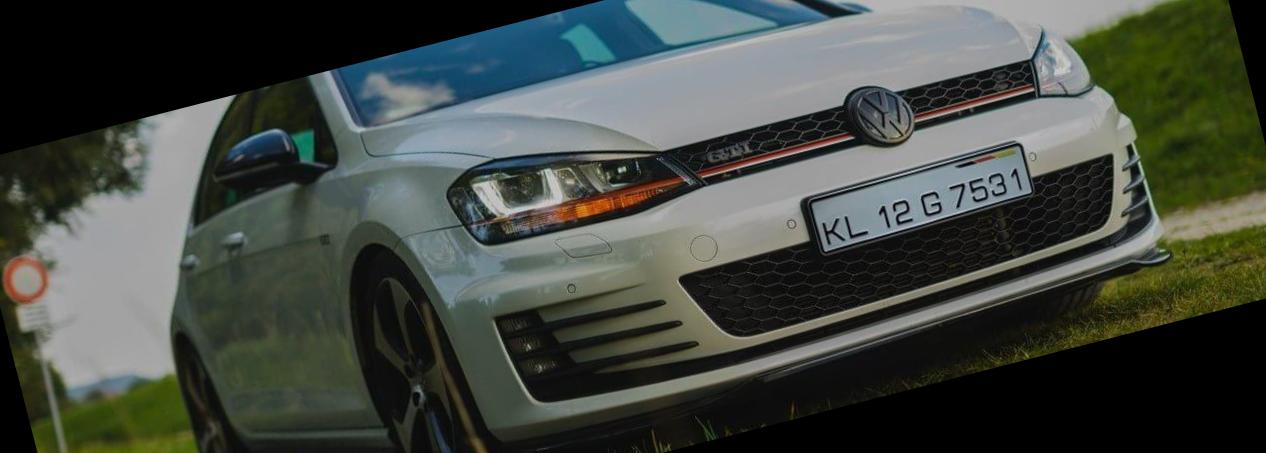plate: (785, 137, 1052, 261)
